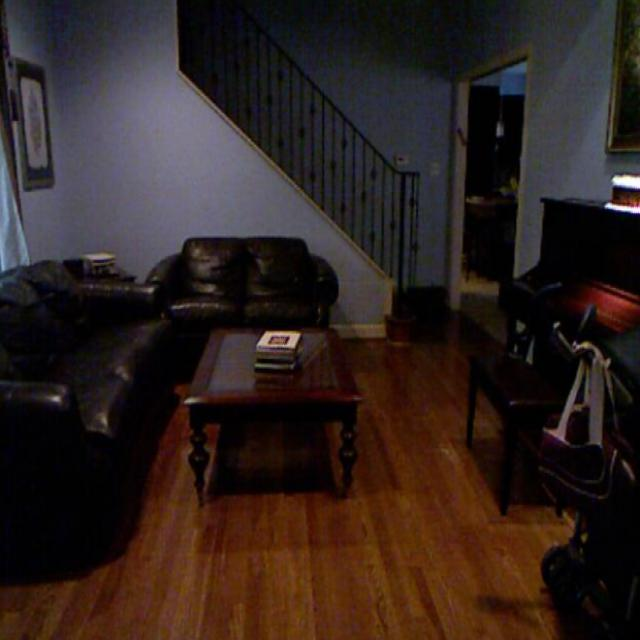Staircase: (215, 32, 421, 260)
a sofa: (22, 239, 148, 522), (158, 227, 350, 321)
door: (462, 72, 522, 300)
table: (185, 319, 368, 491)
